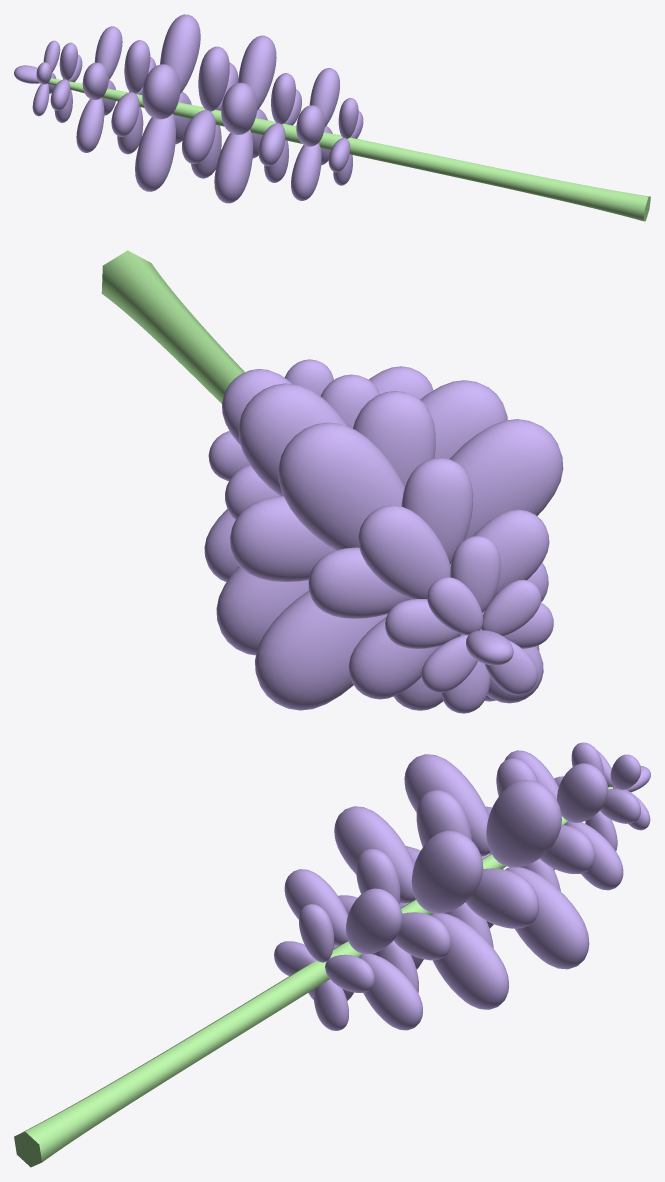
Rendered from LavandaAcostada.fbx.
3 renders of one model, top to bottom at view 1: azimuth 30°, elevation 25°; view 2: azimuth 150°, elevation 25°; view 3: azimuth 270°, elevation 25°, orthographic. The views are drawn at different scales.
Visible parts, largest first — view 1: Cube.040, NurbsPath; view 2: Cube.040, NurbsPath; view 3: Cube.040, NurbsPath.
Boxes of the visible parts, left/top/right/bottom form: Cube.040: left=14, top=14, right=363, bottom=203; NurbsPath: left=48, top=78, right=650, bottom=221; Cube.040: left=204, top=359, right=563, bottom=713; NurbsPath: left=101, top=250, right=481, bottom=630; Cube.040: left=274, top=742, right=650, bottom=1030; NurbsPath: left=14, top=786, right=612, bottom=1167.
Bounding box in the file's own units: 167 × 55.31 × 158.
